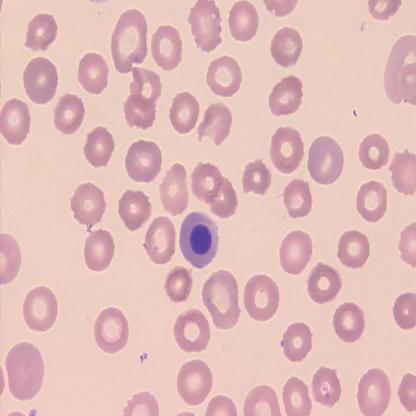NRC: (178, 209, 221, 270)
